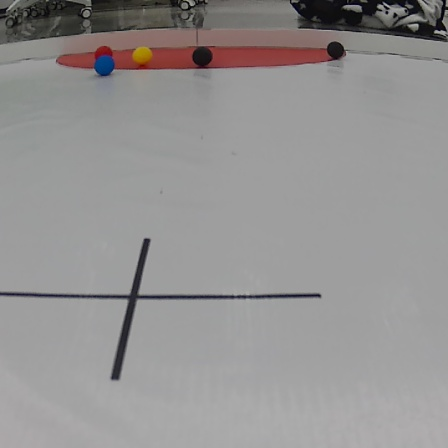black: (189, 44, 215, 68), (325, 40, 346, 60)
blue: (91, 58, 119, 77)
red: (91, 43, 116, 61)
red_base: (54, 47, 346, 71)
yellow: (132, 43, 154, 67)
